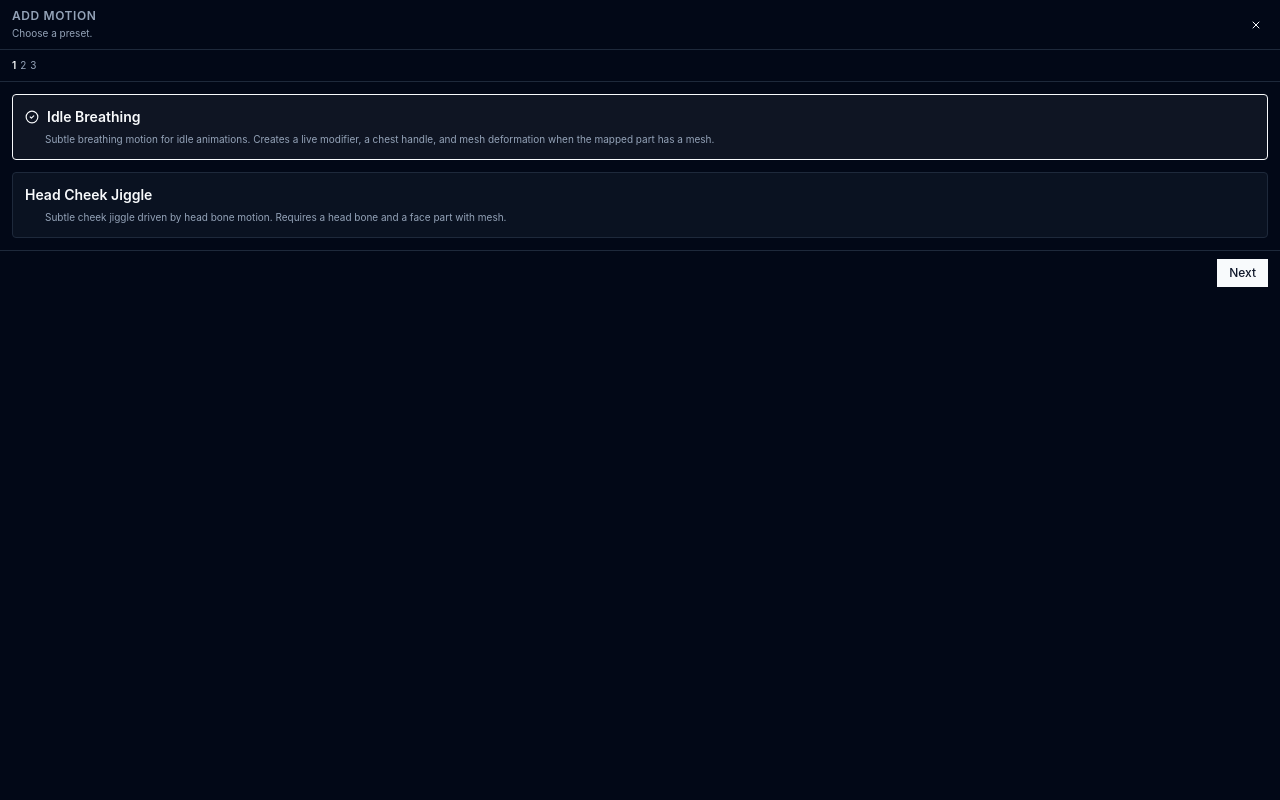
Test: AddMotionWizard › starts canvas picking without binding the current selection immediately
Click the button "Next" at (1243, 273), box [1217, 259, 1268, 287]
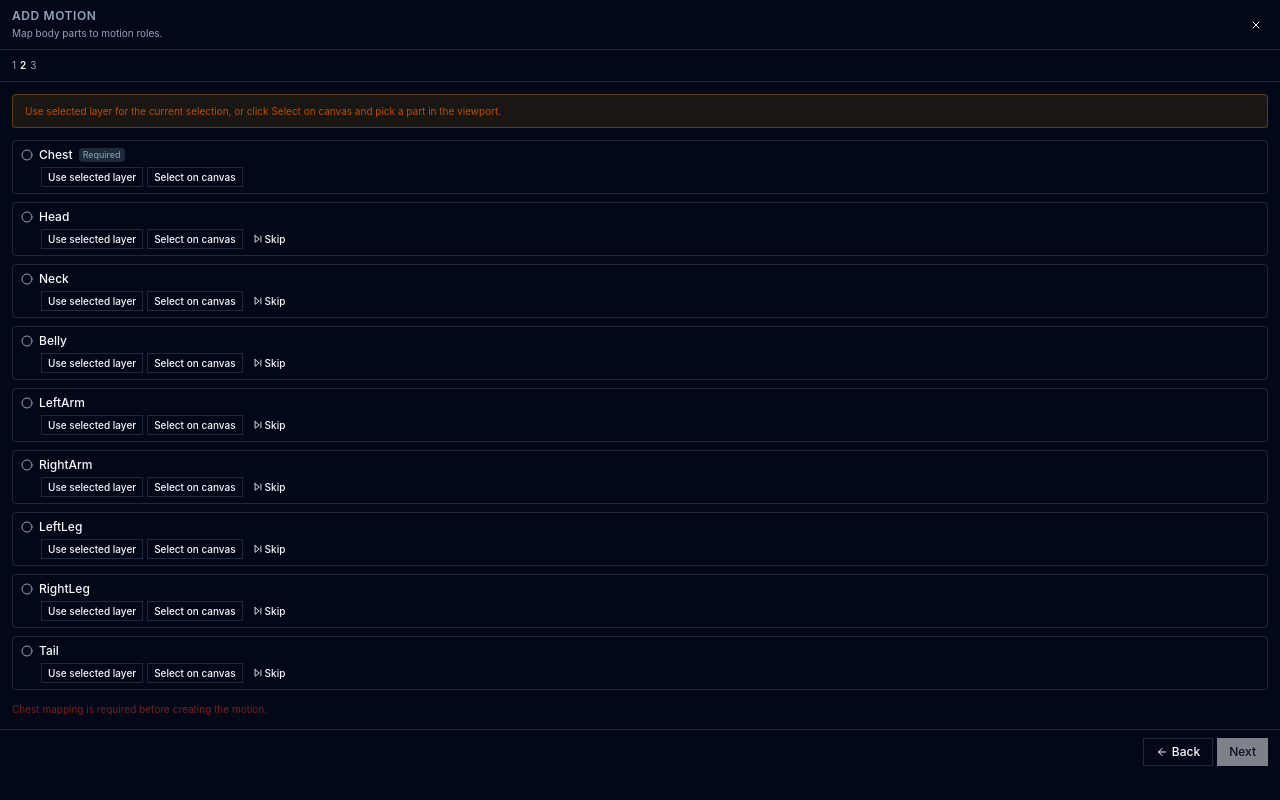
Click the 1st button "Select on canvas" at (195, 177), box [147, 167, 243, 187]
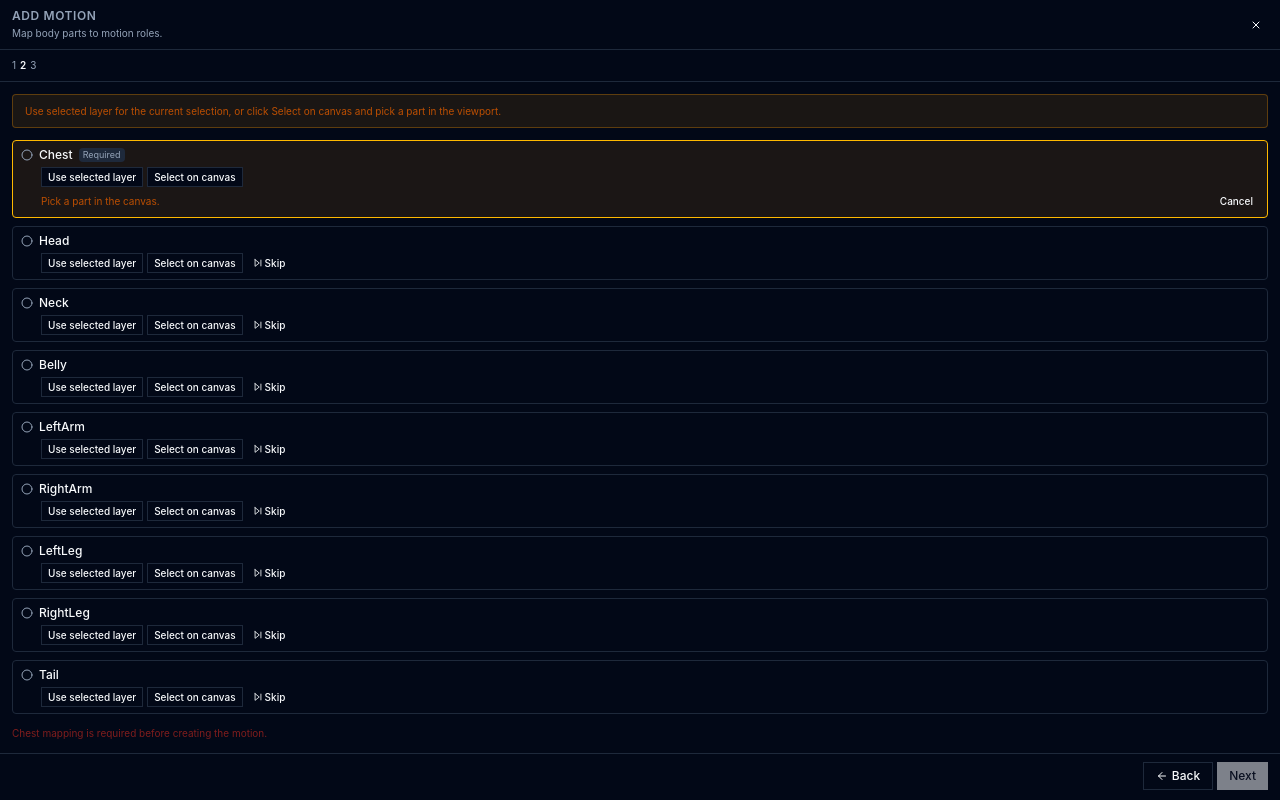
Check: the button "Next" is disabled, box [1217, 762, 1268, 790]
Check: the text "Pick a part in the canvas" is shown, box [41, 194, 160, 206]
